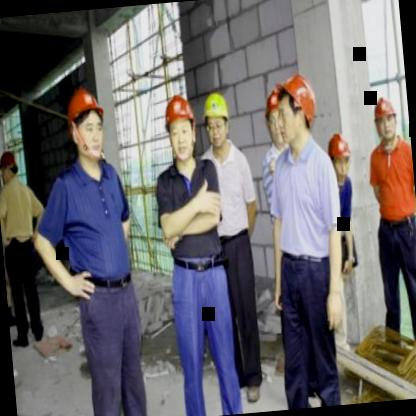helmet: (64, 85, 112, 168), (267, 72, 318, 150), (161, 92, 200, 162), (263, 83, 298, 145), (200, 89, 234, 150), (370, 91, 400, 145), (327, 130, 354, 184), (0, 146, 22, 194)
